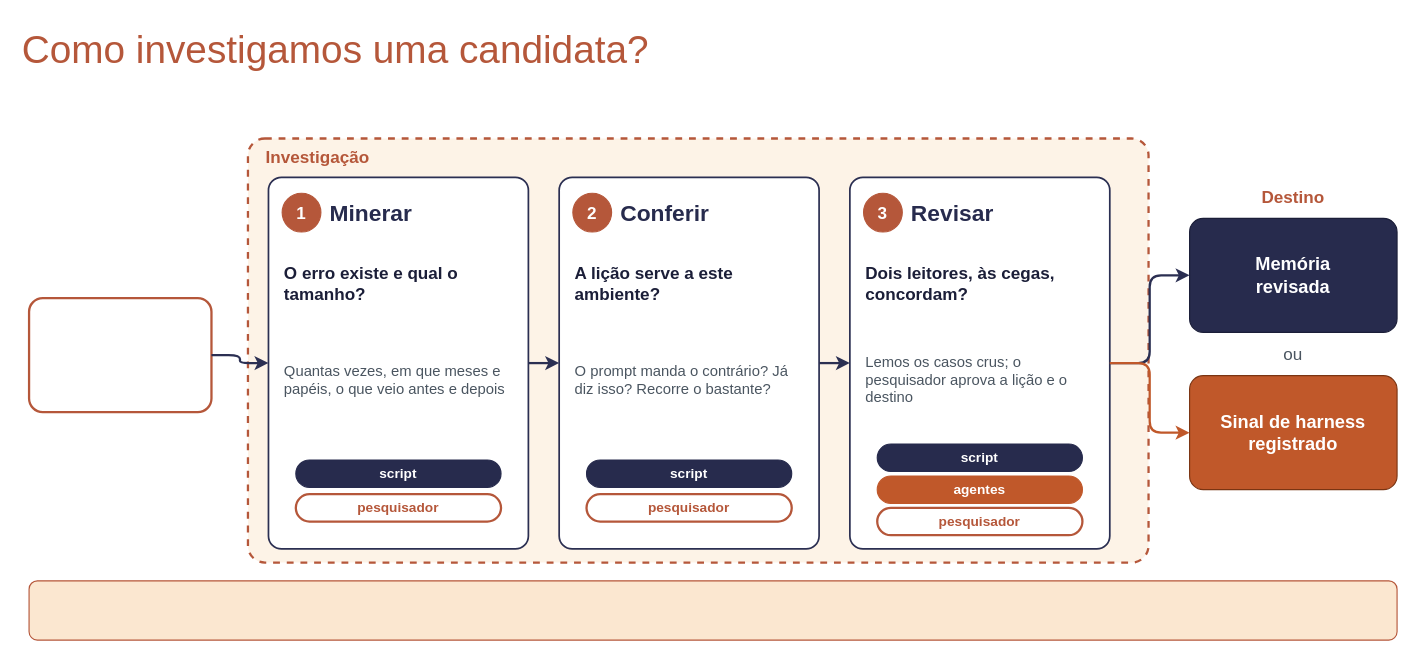
This 1417x660 diagram has some shape labels left out. Each missing label, with the box of its shape:
Em cada etapa, a lição pode voltar , mudar de destino ou seguir .: (28, 580, 1397, 640)
Unidade candidata: (27, 296, 212, 413)
